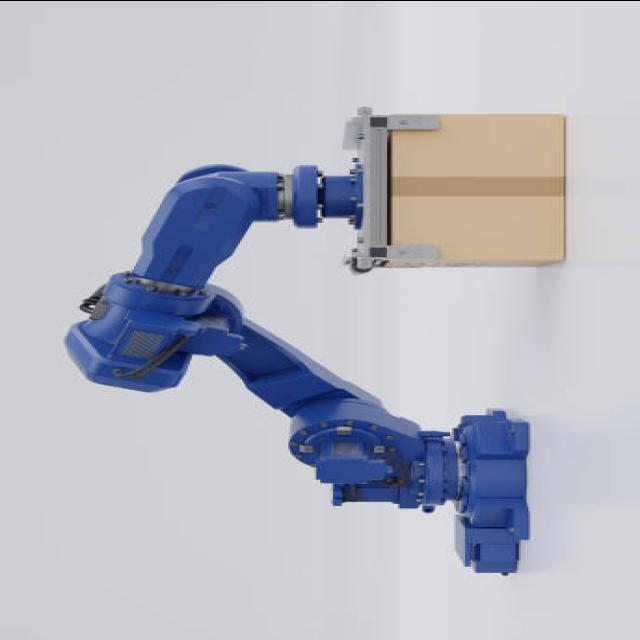Robotic-arm: (62, 166, 534, 578)
